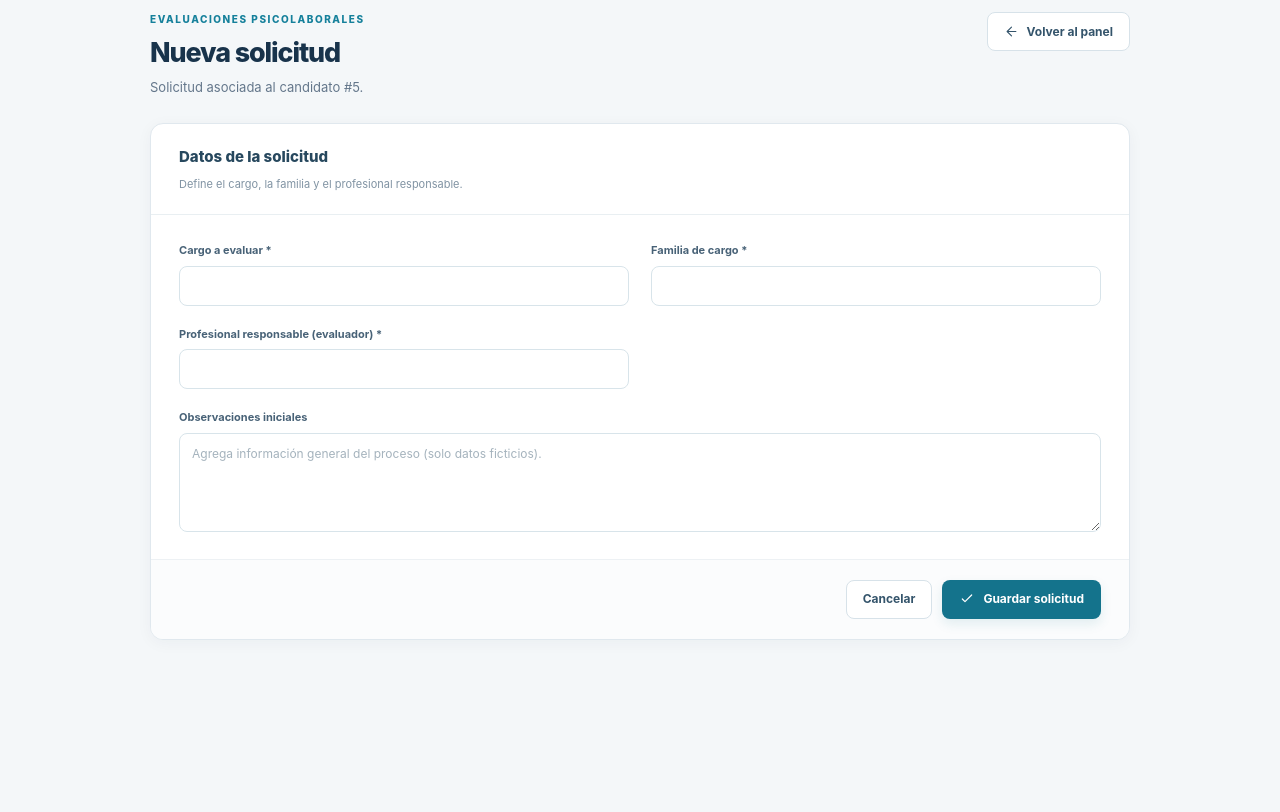
Test case: Vista NuevaSolicitud › debe mostrar mensaje de error si el usuario no tiene permisos (403)
Type "Jefe de Turno" into the field labelled "Cargo a evaluar *" at [404, 286], box left=179, top=266, right=629, bottom=306
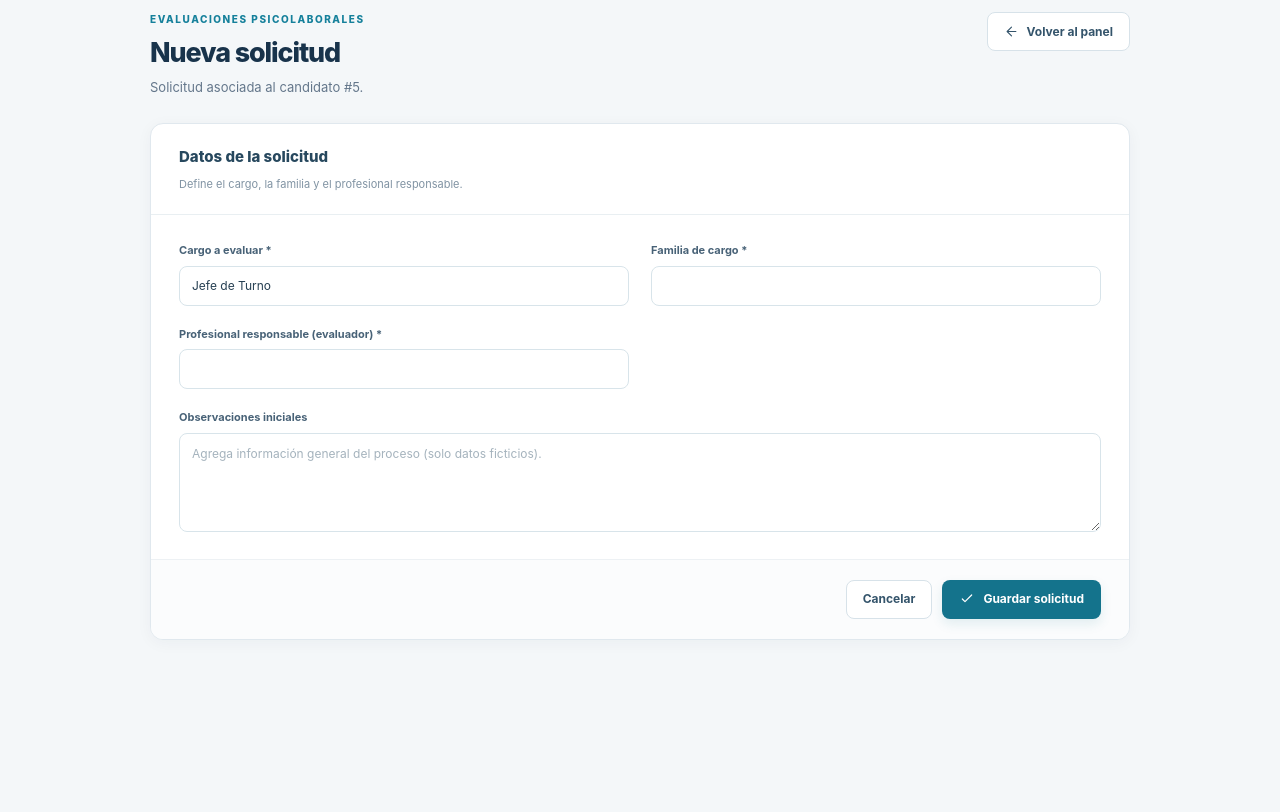
Type "Producción" into the field labelled "Familia de cargo *" at [876, 286], box left=651, top=266, right=1101, bottom=306
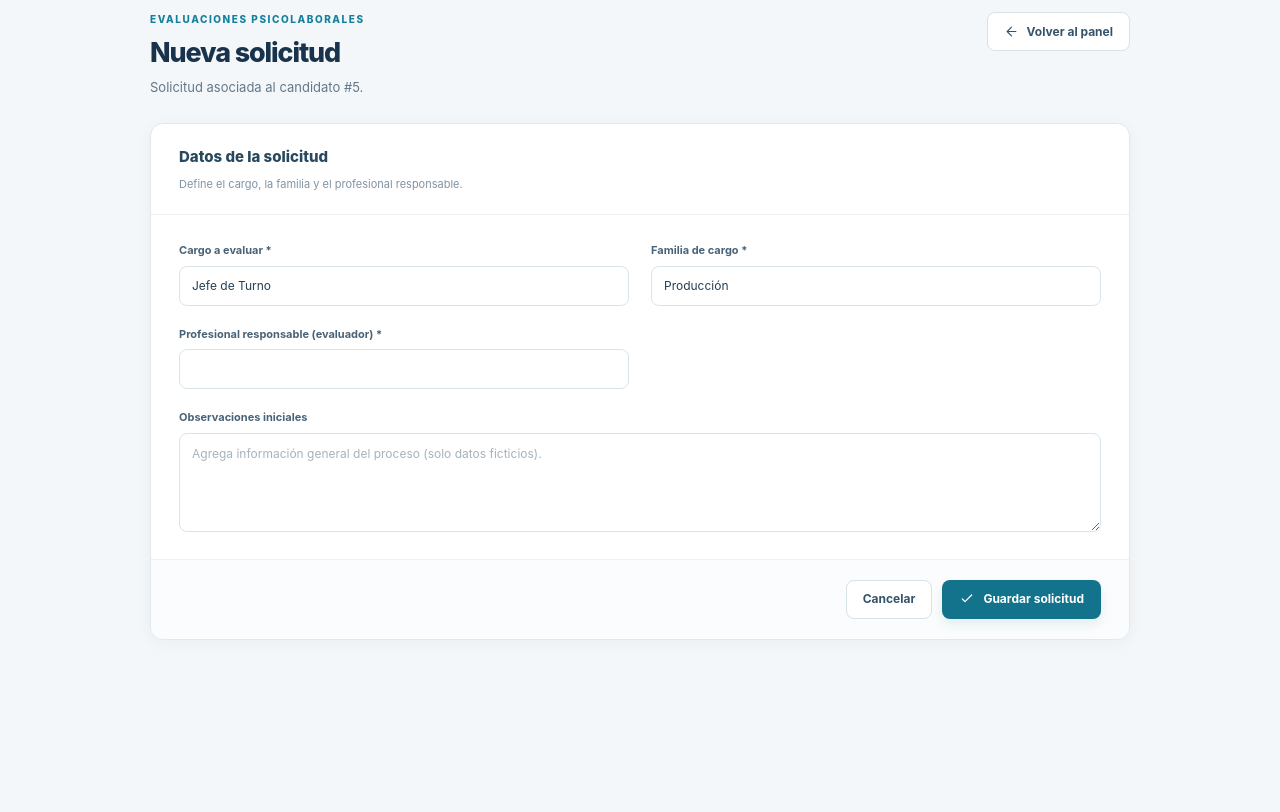
Type "Psicólogo Juan" into the field labelled "Profesional responsable (evaluador) *" at [404, 369], box left=179, top=349, right=629, bottom=389
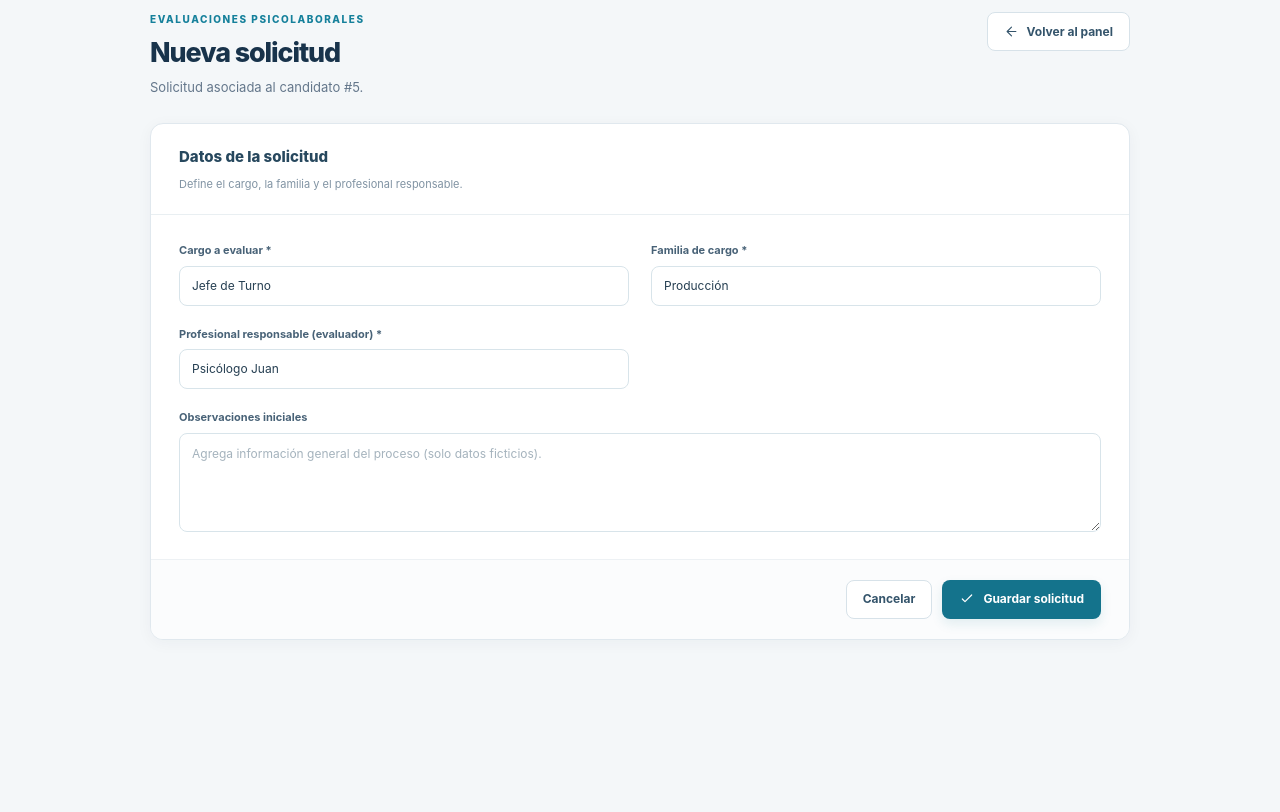
Click the button "Guardar solicitud" at [1022, 599], box left=942, top=580, right=1101, bottom=619
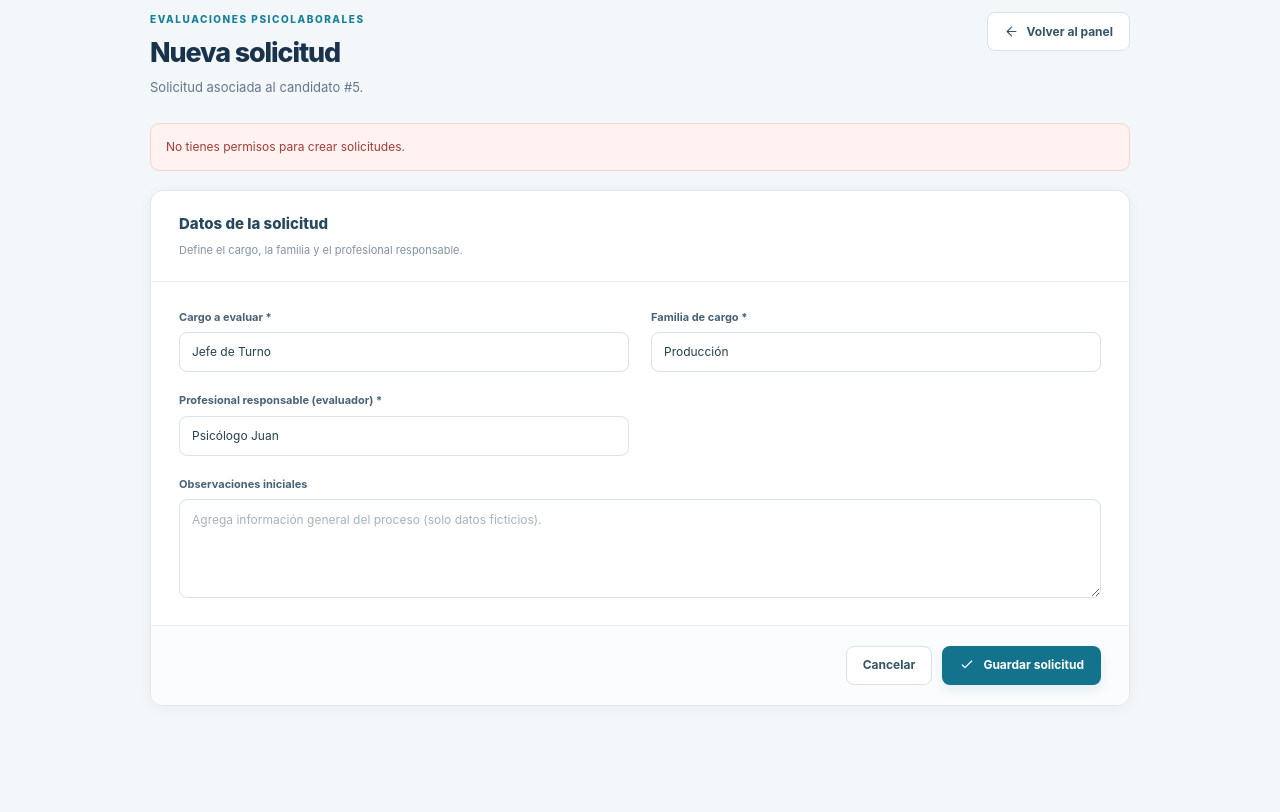
Result: the message reads "No tienes permisos para crear solicitudes." at left=166, top=139, right=405, bottom=154
